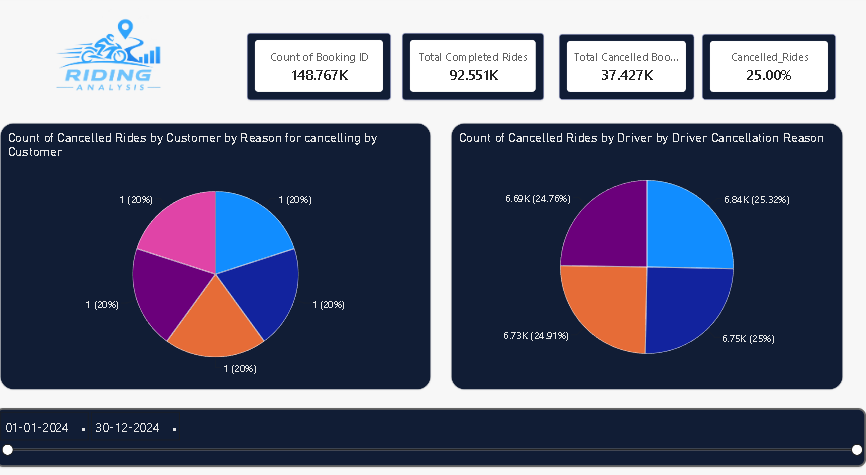

This screenshot's page, from the dashboard's own definition file:
{"tool":"powerbi","page":{"name":"Cancellation","canvas":[1920,1080],"ordinal":4},"visuals":[{"type":"pieChart","fields":{"Category":["rideBookings.Reason for cancelling by Customer"],"Y":["Count(rideBookings.Cancelled Rides by Customer)"]},"box":[11,282.1,950,588.5],"z":0},{"type":"pieChart","fields":{"Category":["rideBookings.Driver Cancellation Reason"],"Y":["CountNonNull(rideBookings.Cancelled Rides by Driver)"]},"box":[1005.1,282.1,864,588.5],"z":1000},{"type":"slicer","fields":{"Values":["calendar.Date"]},"box":[0,910.3,1919.8,130],"z":2000},{"type":"cardVisual","fields":{"Data":["Count(rideBookings.Booking ID)"]},"box":[555.4,83.8,317.4,147.7],"z":3000},{"type":"cardVisual","fields":{"Data":["Count(rideBookings.Booking ID)"]},"box":[897.1,83.8,313,147.7],"z":4000},{"type":"cardVisual","fields":{"Data":["Count(rideBookings.Booking ID)"]},"box":[1243.1,86,297.6,145.5],"z":5000},{"type":"cardVisual","fields":{"Data":["calendar and measures.Cancelled_Rides"]},"box":[1558.3,86,295.3,145.5],"z":6000},{"type":"image","box":[28.7,0,443,282.1],"z":6001}]}

Visuals, with their boxes in screenshot pixels (x1, y1, x2, y2), scaled from the page's 1920x1080 canvas onto the 866x475 screenshot:
pieChart - rideBookings.Reason for cancelling by Customer x Count(rideBookings.Cancelled Rides by Customer): 5, 124, 433, 383
pieChart - rideBookings.Driver Cancellation Reason x CountNonNull(rideBookings.Cancelled Rides by Driver): 453, 124, 843, 383
slicer - calendar.Date: 0, 400, 865, 458
cardVisual - Count(rideBookings.Booking ID): 251, 37, 394, 102
cardVisual - Count(rideBookings.Booking ID): 405, 37, 546, 102
cardVisual - Count(rideBookings.Booking ID): 561, 38, 695, 102
cardVisual - calendar and measures.Cancelled_Rides: 703, 38, 836, 102
image: 13, 0, 213, 124
